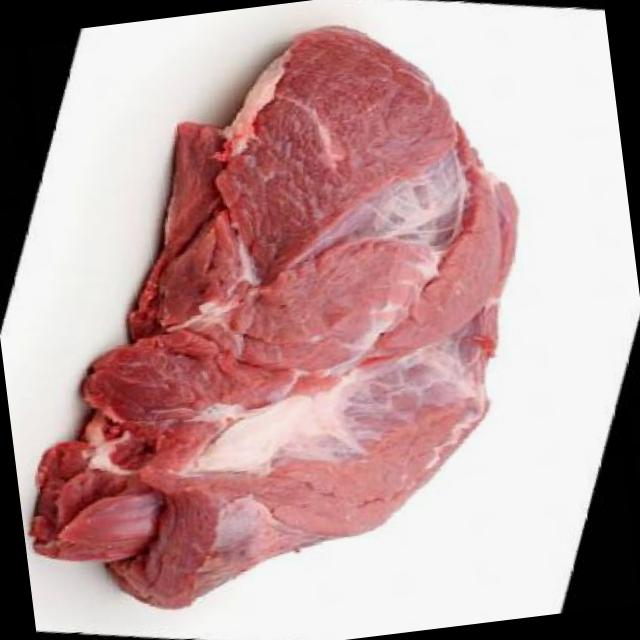beef: (0, 0, 581, 633)
